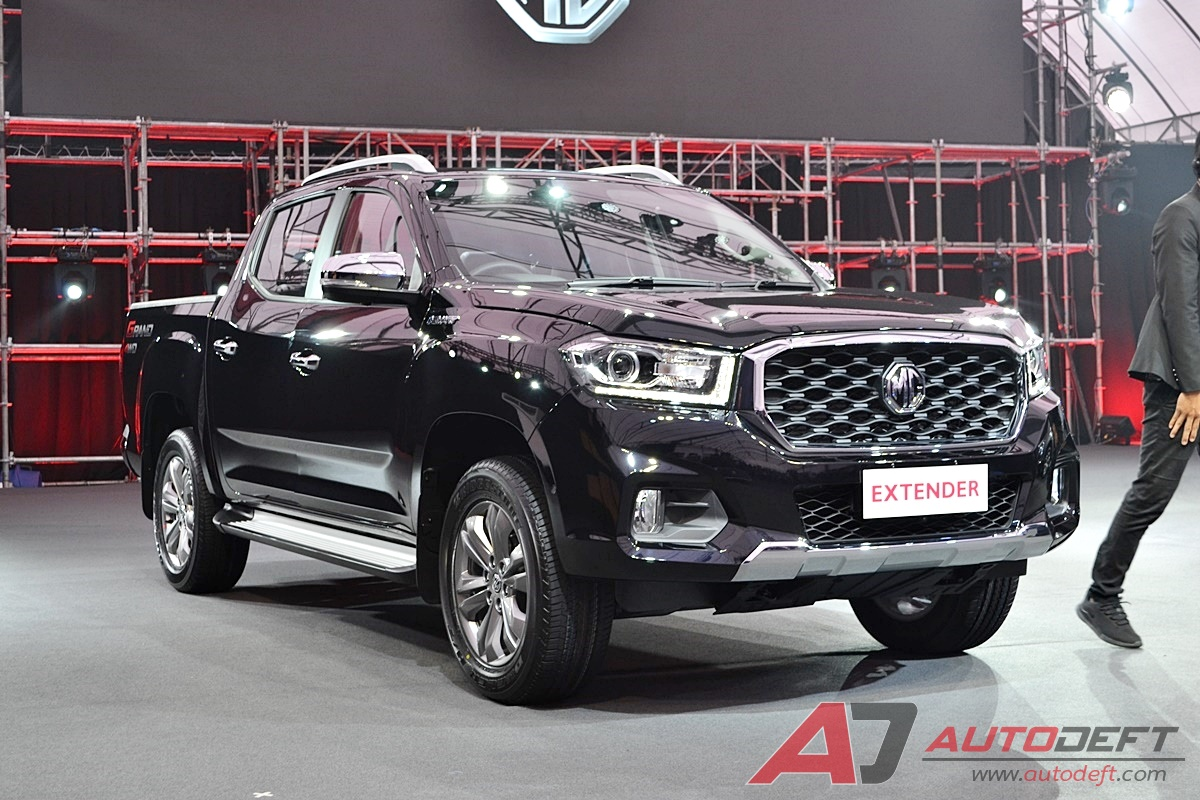pickup: (105, 148, 1085, 711)
